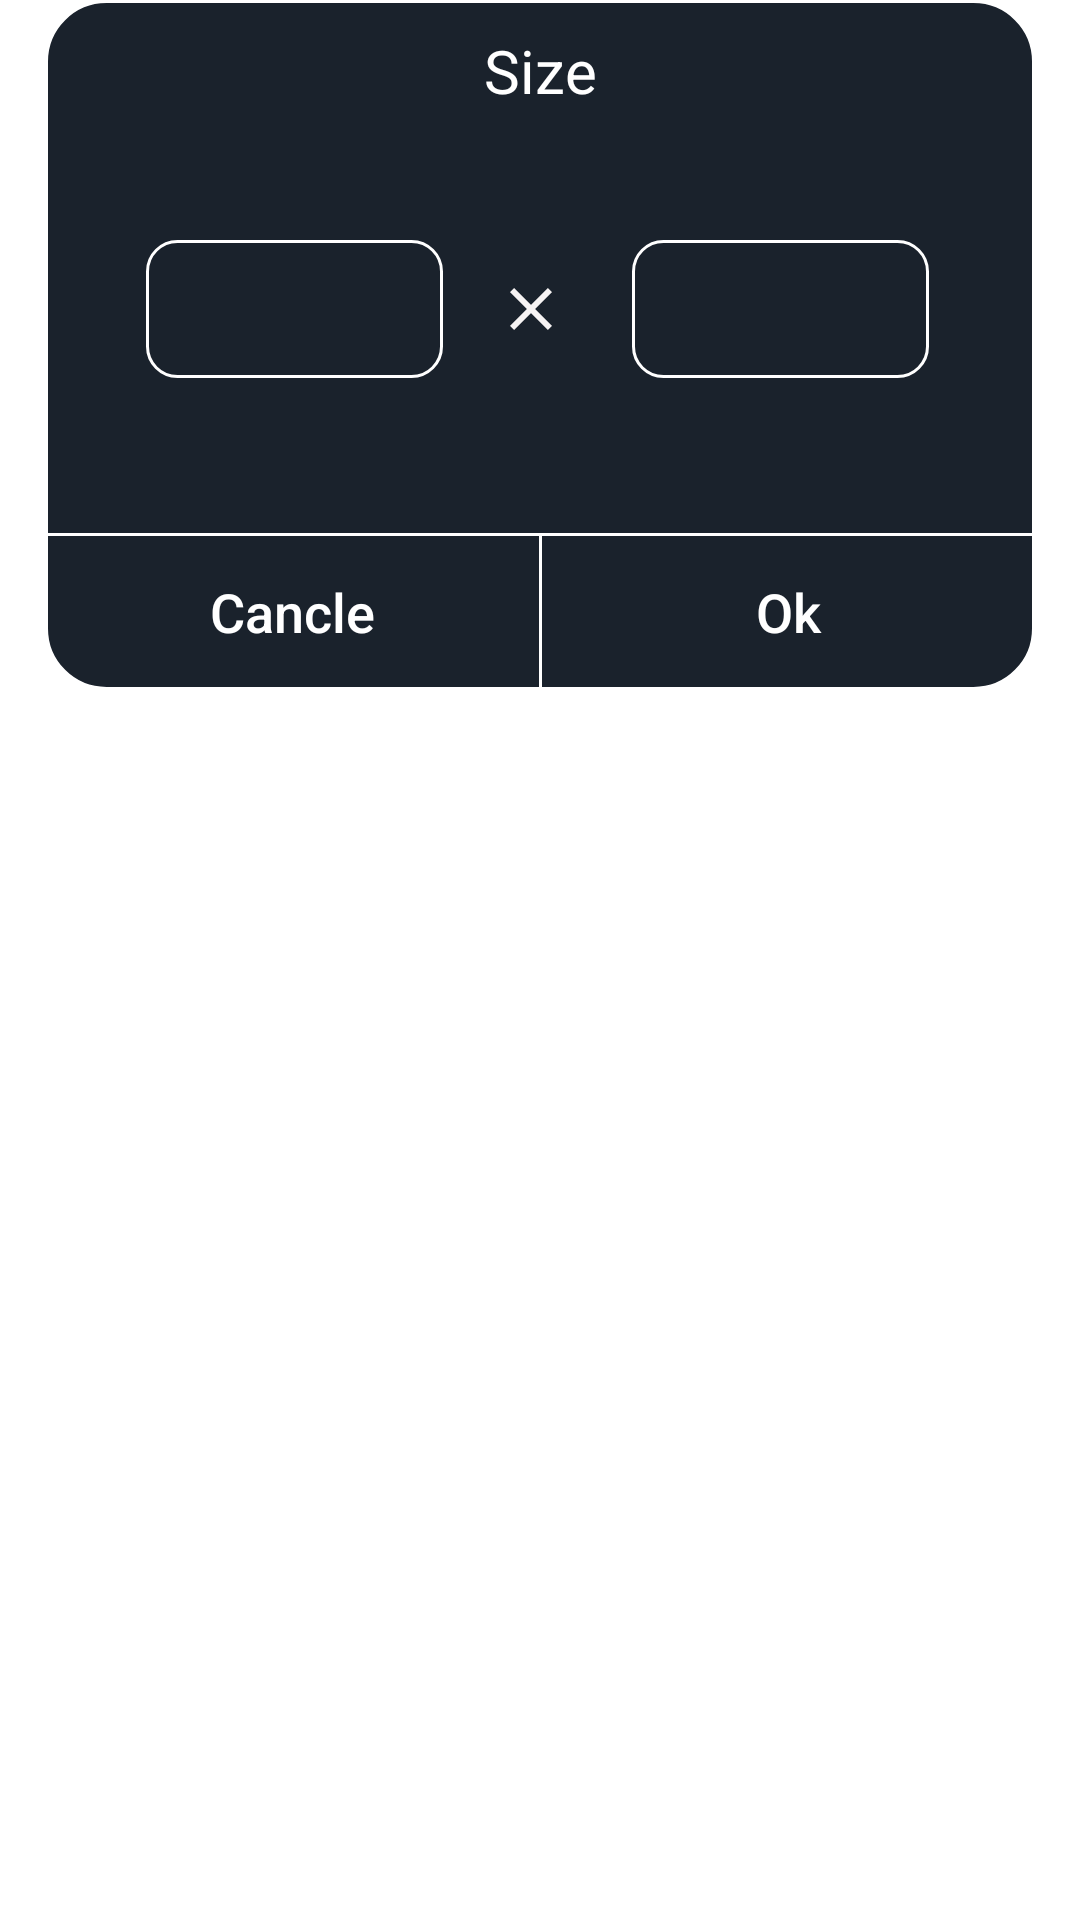

Icon click points for this 1080px×1920px phone screenshot, format [x,y]:
close: [531,309]
